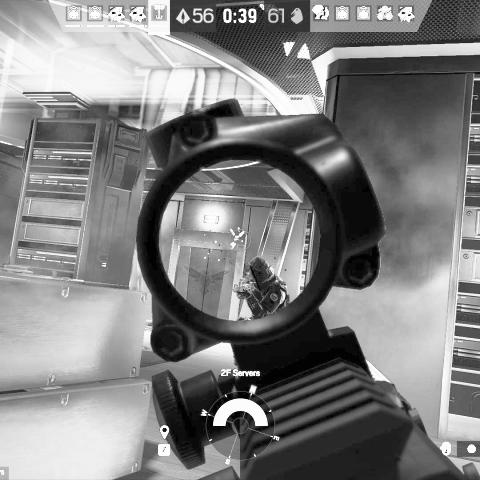Character: (231, 256, 290, 323)
Head: (248, 257, 271, 283)
